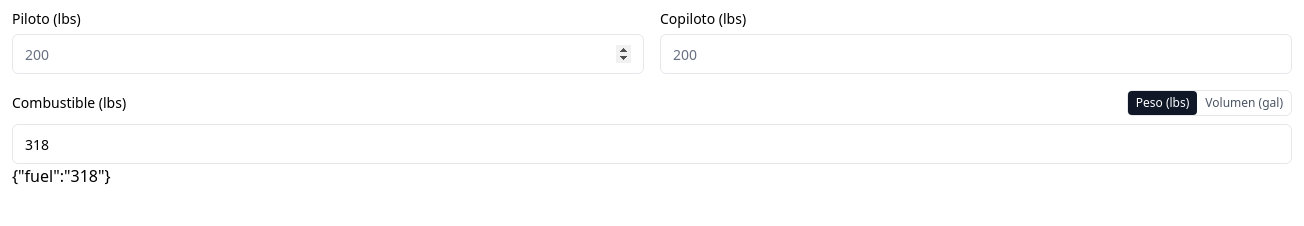
Test: StationForm › fuel by volume › shows an existing fuel weight as volume
The image size is (1304, 226).
Step 1. Click the button "Volumen (gal)" → (1244, 103), box [1197, 91, 1291, 115]
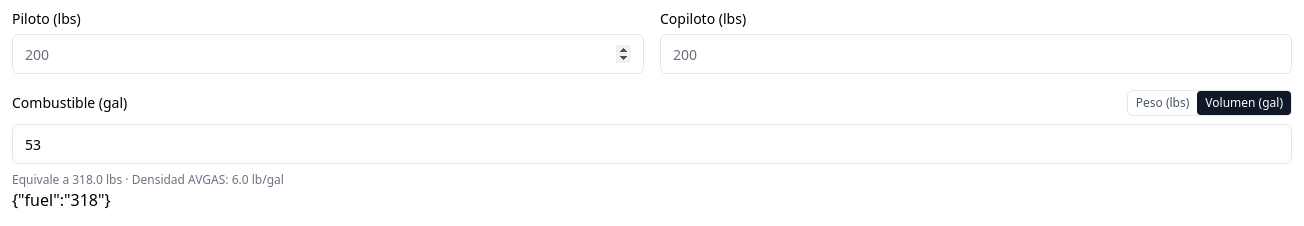
expect the number field labelled "Combustible (gal)" holds "53": met, box [12, 124, 1292, 164]
